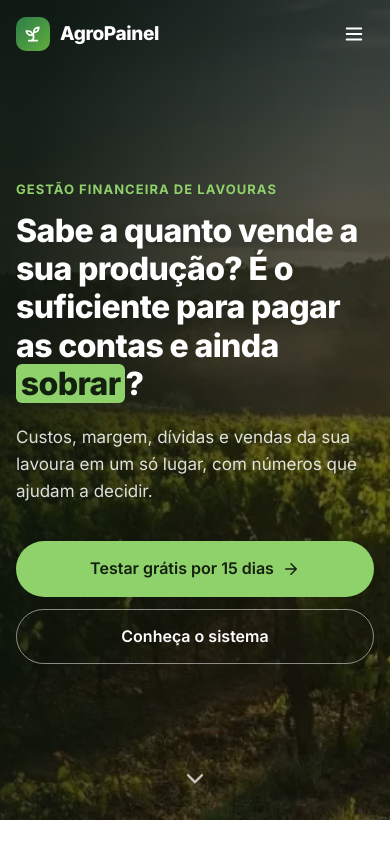
Test: Layout mobile › fecha o menu com Esc
The image size is (390, 844).
Click the button with class "header__toggle" at (354,34), box left=334, top=14, right=374, bottom=54
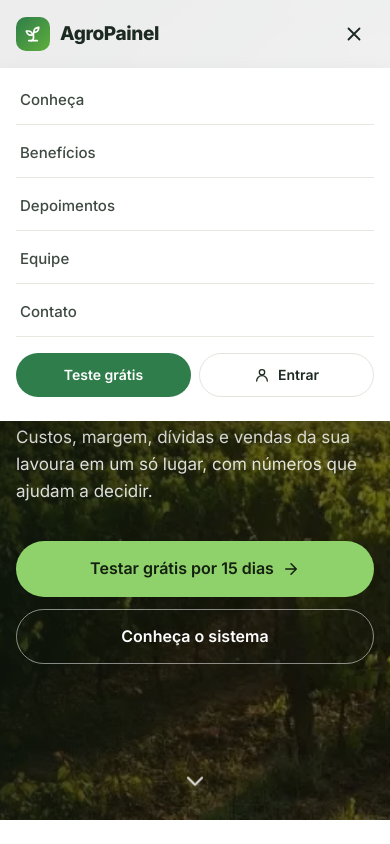
Press Esc
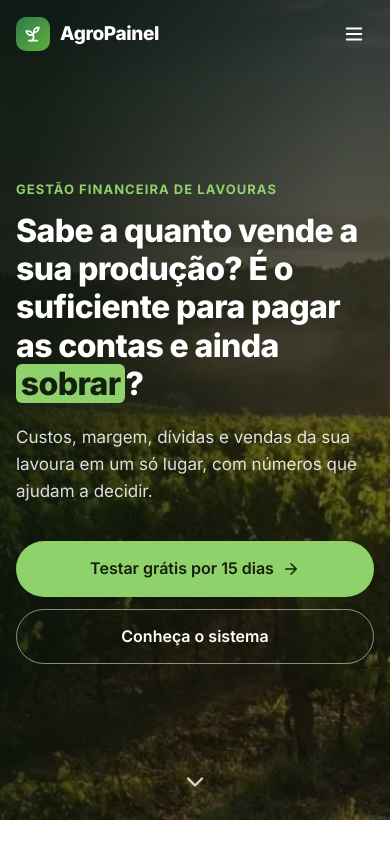
expect the navigation bar with id "menu-principal" is gone: met
